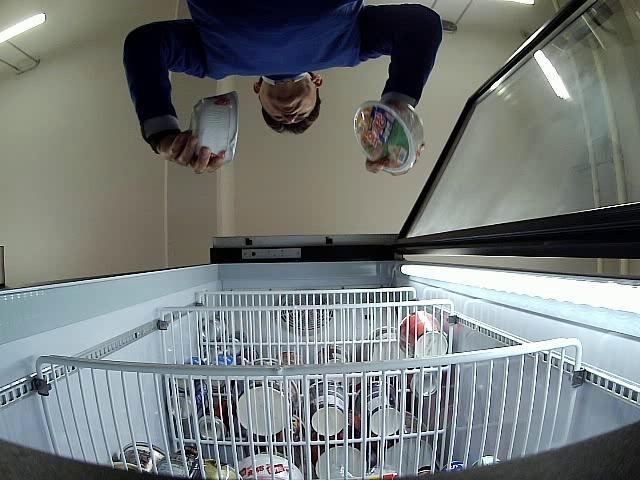09_yukGaeJang: (354, 98, 424, 173), (189, 92, 239, 162)
